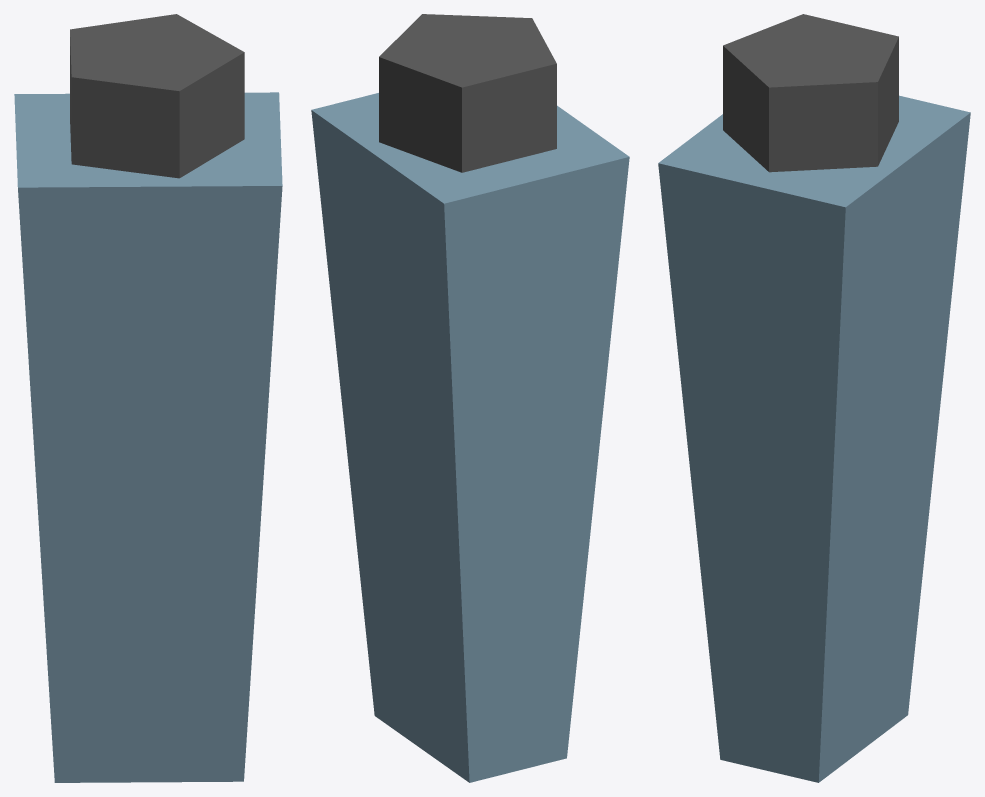
File: Perfume_3.fbx
3 views of the same model, side by side, from view 1: azimuth 30°, elevation 25°; view 2: azimuth 150°, elevation 25°; view 3: azimuth 270°, elevation 25° (orthographic). The views are drawn at different scales.
Parts seen in each view (by area): view 1: Perfume_3; view 2: Perfume_3; view 3: Perfume_3.
Part boxes in pixels (x1,y1,x2,y2): Perfume_3: (14, 14, 282, 782); Perfume_3: (311, 14, 629, 782); Perfume_3: (658, 14, 970, 782).
Bounding box in the file's own units: 11.44 × 10.87 × 26.26.
